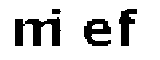e: (81, 19, 112, 49)
f: (118, 7, 141, 50)
i: (52, 7, 68, 50)
m: (7, 17, 56, 49)
